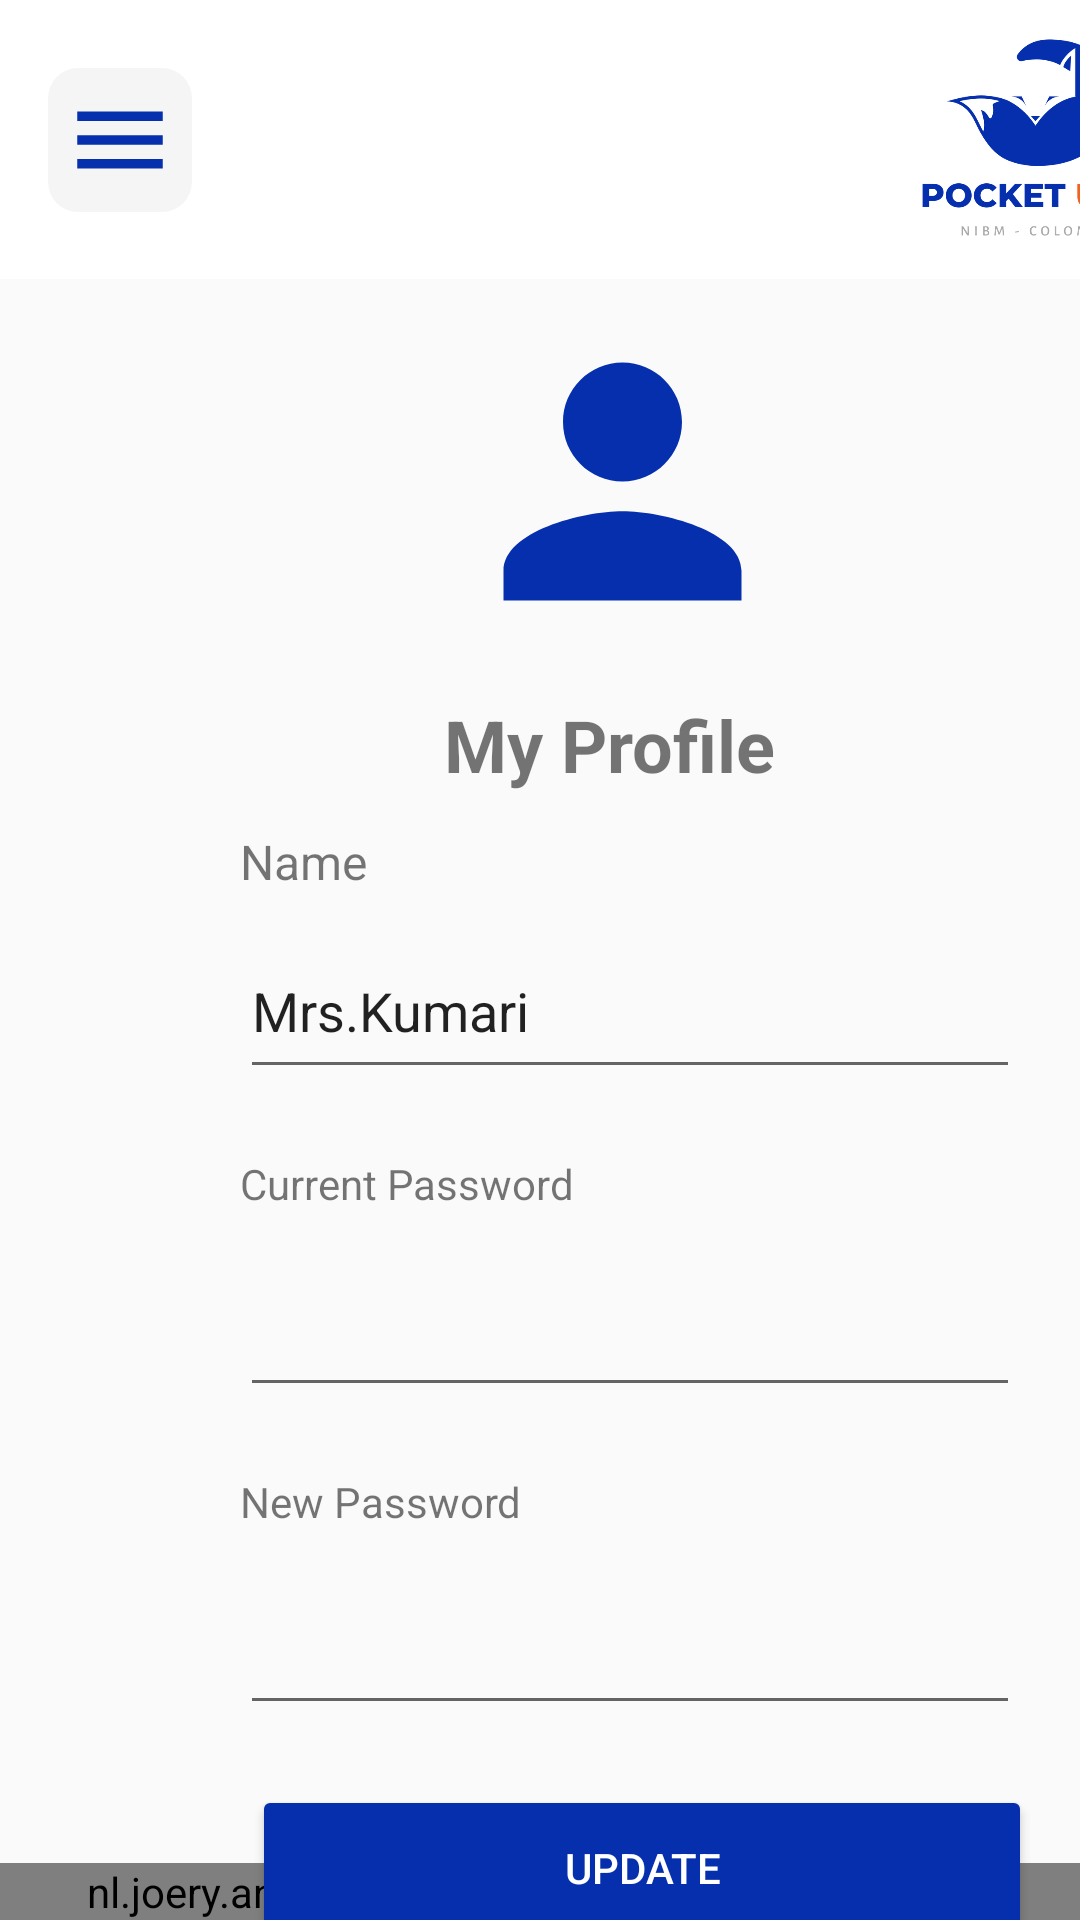

Locate icon controls on the screen. Image size 1080w x 1920h, boxes as (x1, y1, x2, y2).
menu: (77, 111, 163, 169)
